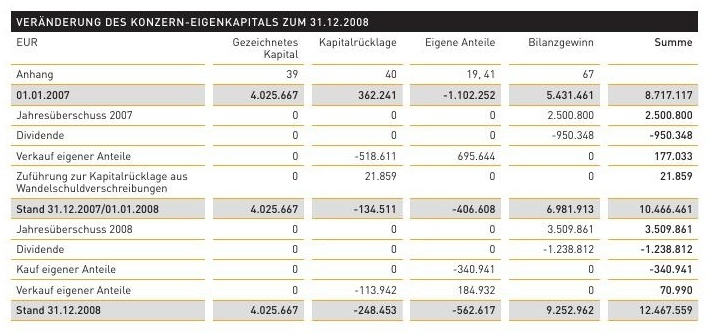table: (0, 0, 711, 333)
